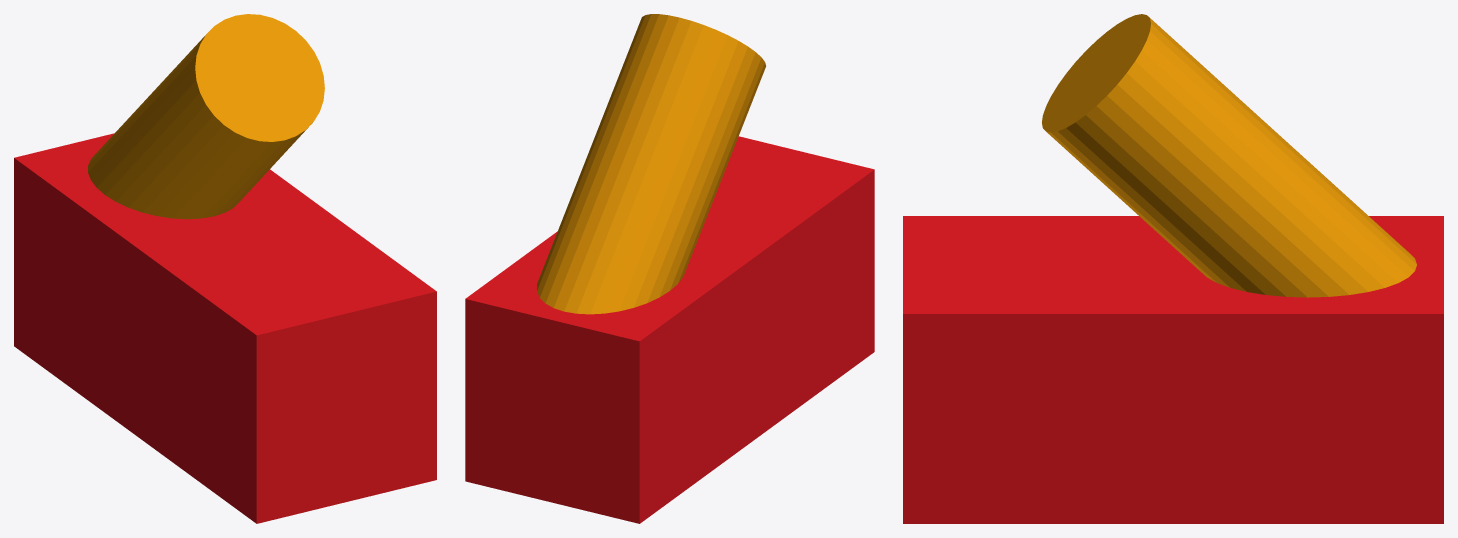
The model's file is red_artillery.fbx.
3 views of the same model, side by side, from view 1: azimuth 30°, elevation 25°; view 2: azimuth 150°, elevation 25°; view 3: azimuth 270°, elevation 25° (orthographic). The views are drawn at different scales.
Parts seen in each view (by area): view 1: Cube, Cylinder; view 2: Cube, Cylinder; view 3: Cube, Cylinder.
Boxes of the visible parts, x1,y1,x2,y2 form: Cube: (14, 133, 436, 523); Cylinder: (88, 14, 324, 219); Cube: (465, 136, 874, 523); Cylinder: (537, 14, 765, 314); Cube: (903, 216, 1443, 523); Cylinder: (1042, 14, 1416, 297).
Bounding box in the file's own units: 60 × 129 × 140.
